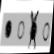correct: (3, 17, 13, 41)
not correct: (26, 6, 41, 52)
